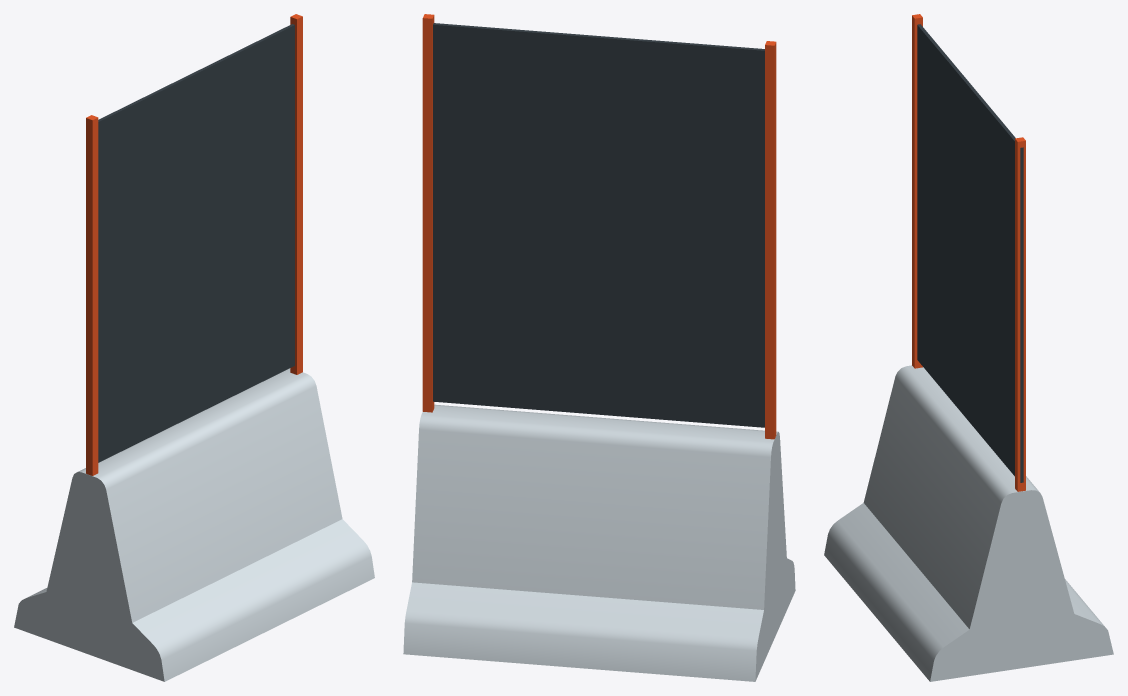
Rendered from Ormigon_02.fbx.
3 views of the same model, side by side, from view 1: azimuth 30°, elevation 25°; view 2: azimuth 150°, elevation 25°; view 3: azimuth 270°, elevation 25° (orthographic). The views are drawn at different scales.
Visible parts, largest first — view 1: Ormigon_02; view 2: Ormigon_02; view 3: Ormigon_02.
Boxes of the visible parts, box(x1,y1,x2,y2) form: Ormigon_02: box(14, 14, 374, 681); Ormigon_02: box(403, 14, 795, 681); Ormigon_02: box(824, 14, 1113, 681).
Size of the model in its own units: 374 by 596 by 297.
